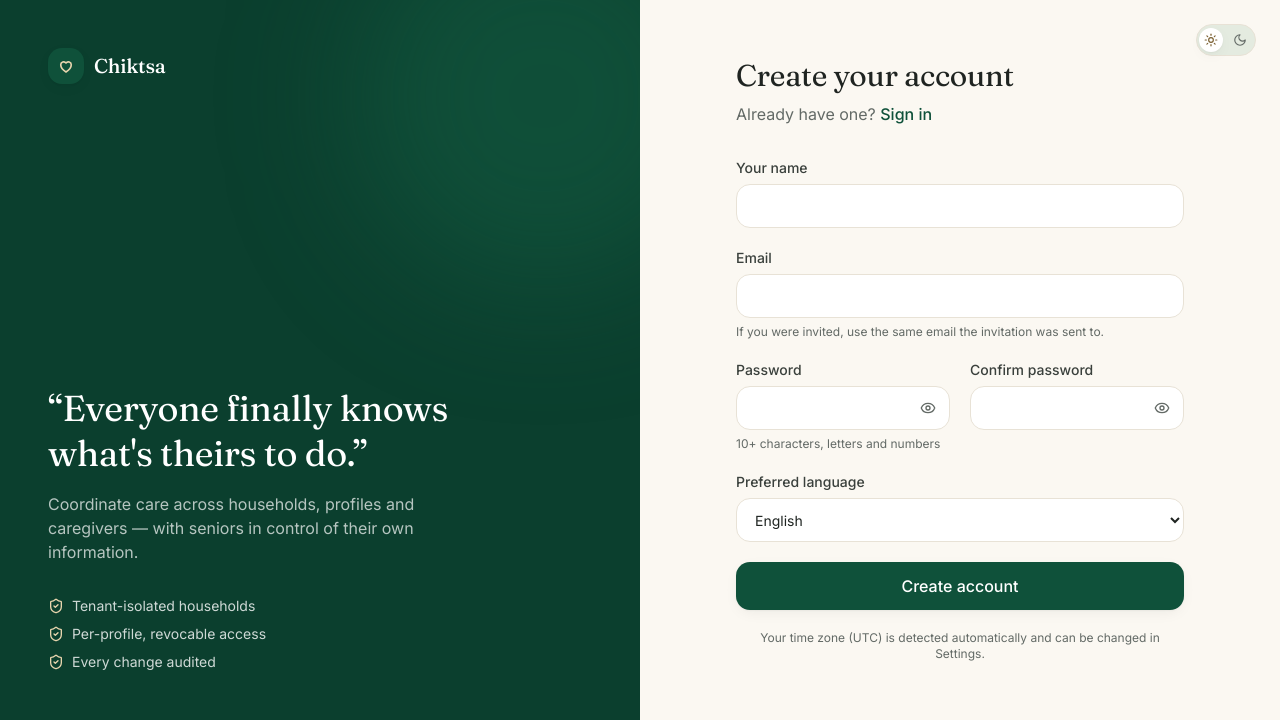
SignupPage › enforces password rules and matching confirmation
Type "Asha" into the field labelled "Your name" at (960, 206), box [736,184,1184,228]
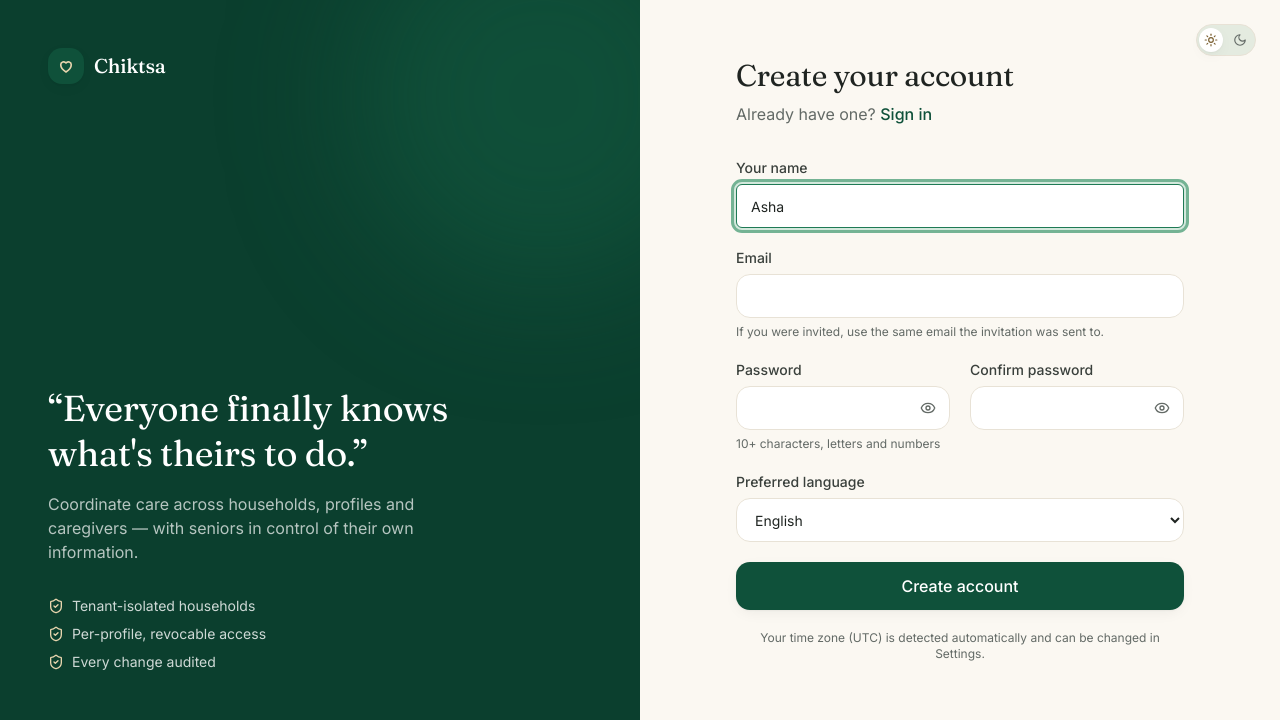
Type "asha@example.com" into the field labelled "Email" at (960, 296), box [736,274,1184,318]
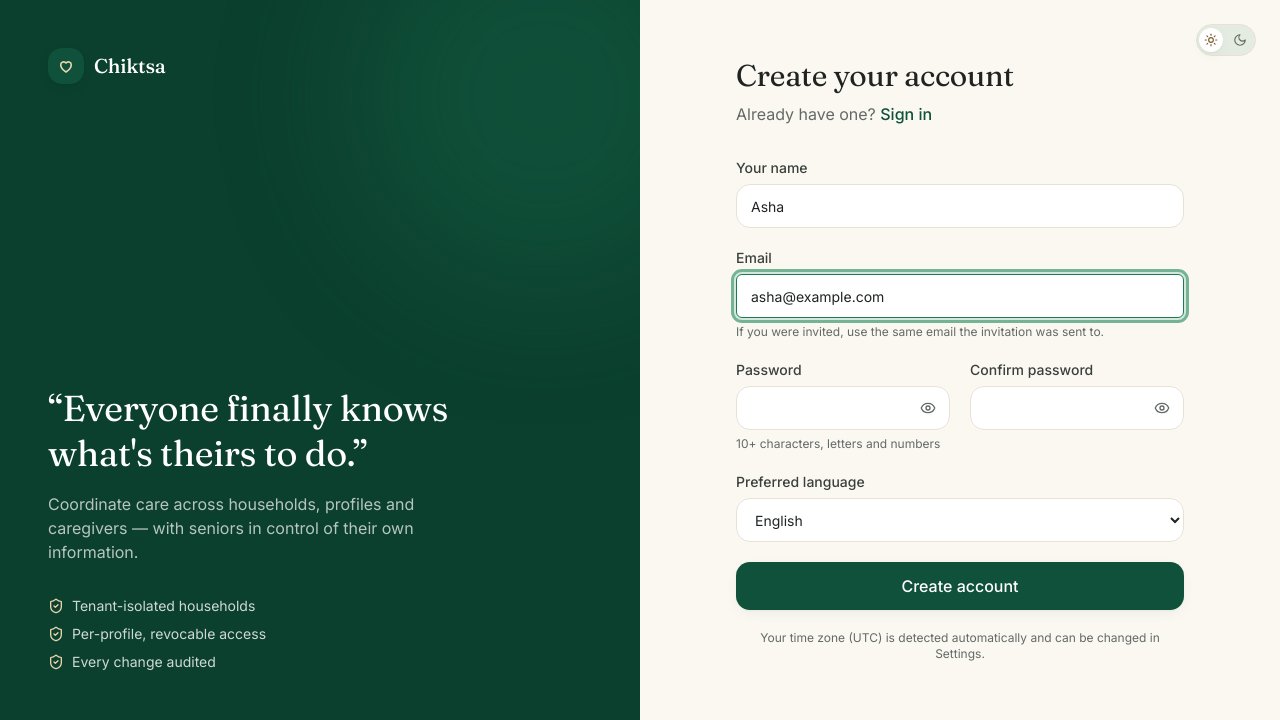
Type "short" into the password field labelled "Password" at (843, 408), box [736,386,950,430]
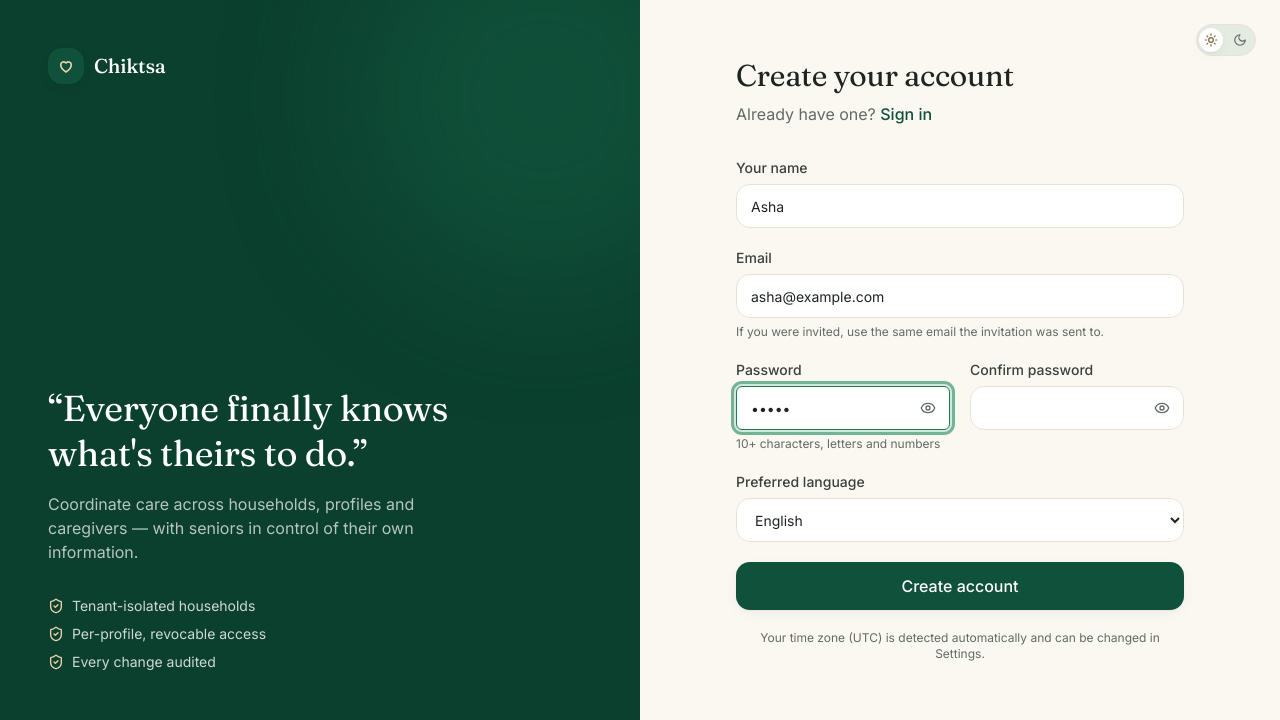
Type "different" into the password field labelled "Confirm password" at (1077, 408), box [970,386,1184,430]
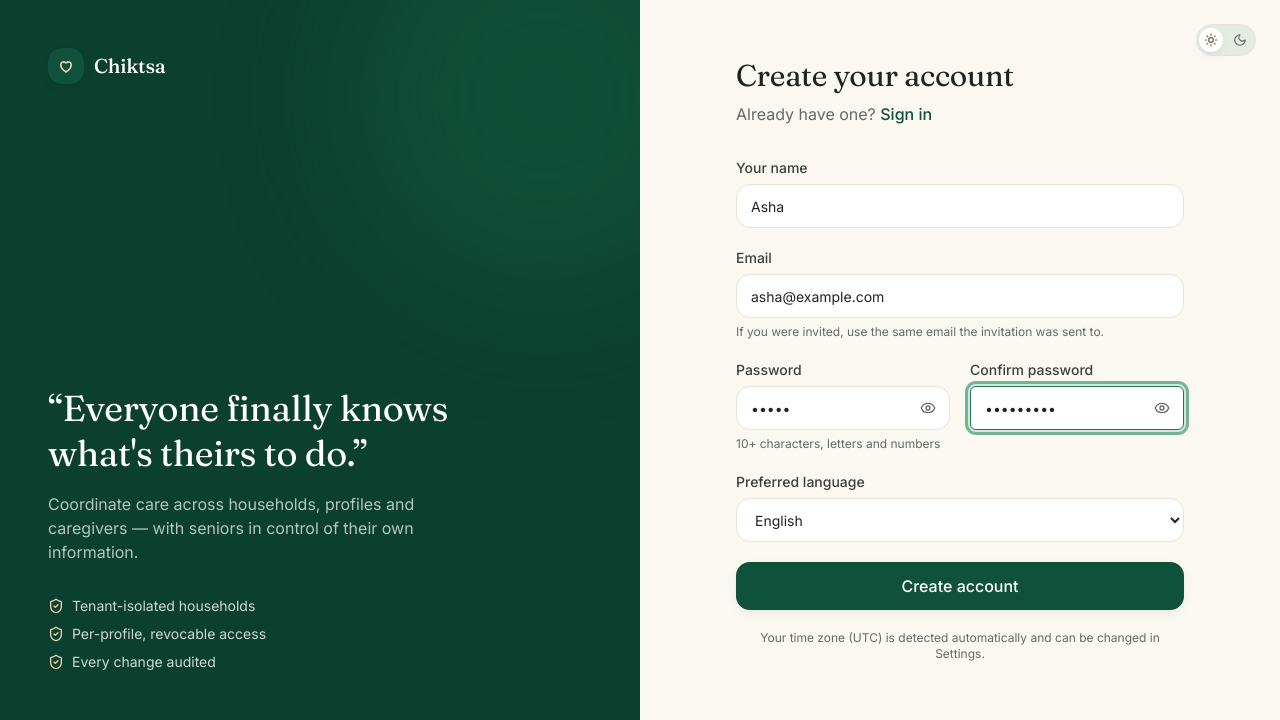
Click the button "Create account" at (960, 586), box [736,562,1184,610]
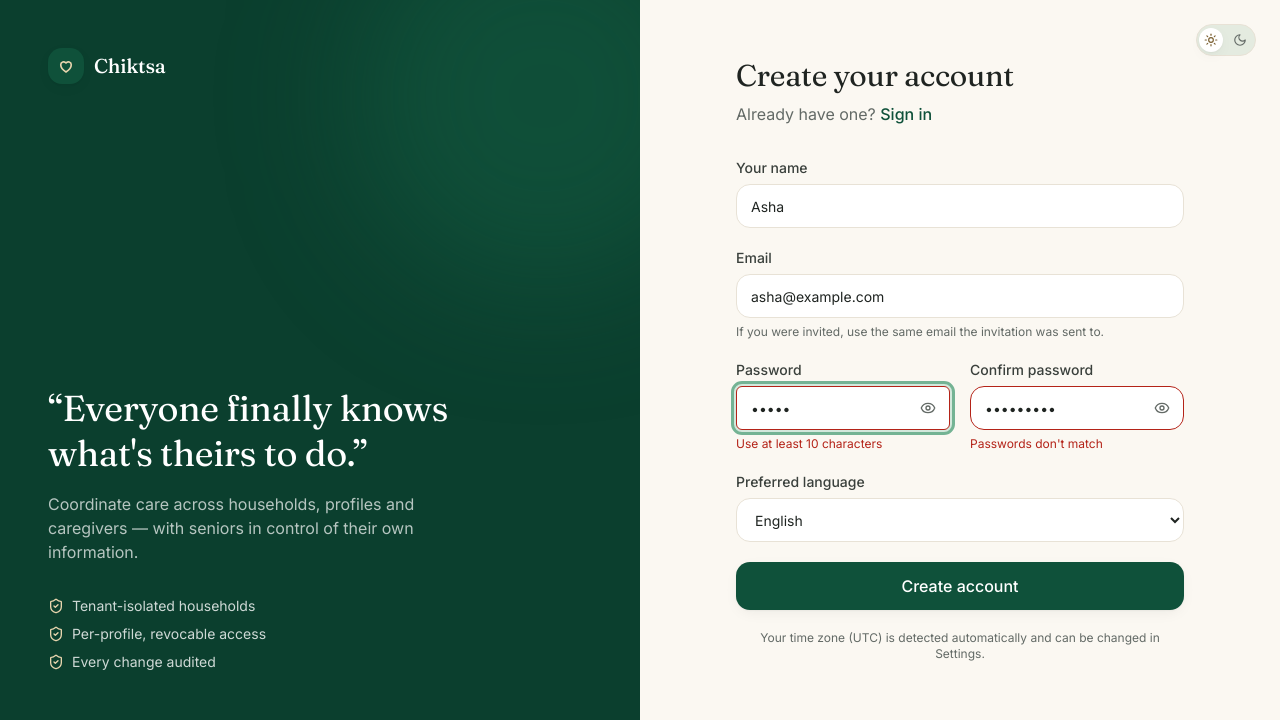
Check: the text "Use at least 10 characters" is shown, box [736,436,882,451]
Check: the text "Passwords don't match" is shown, box [970,436,1103,451]
